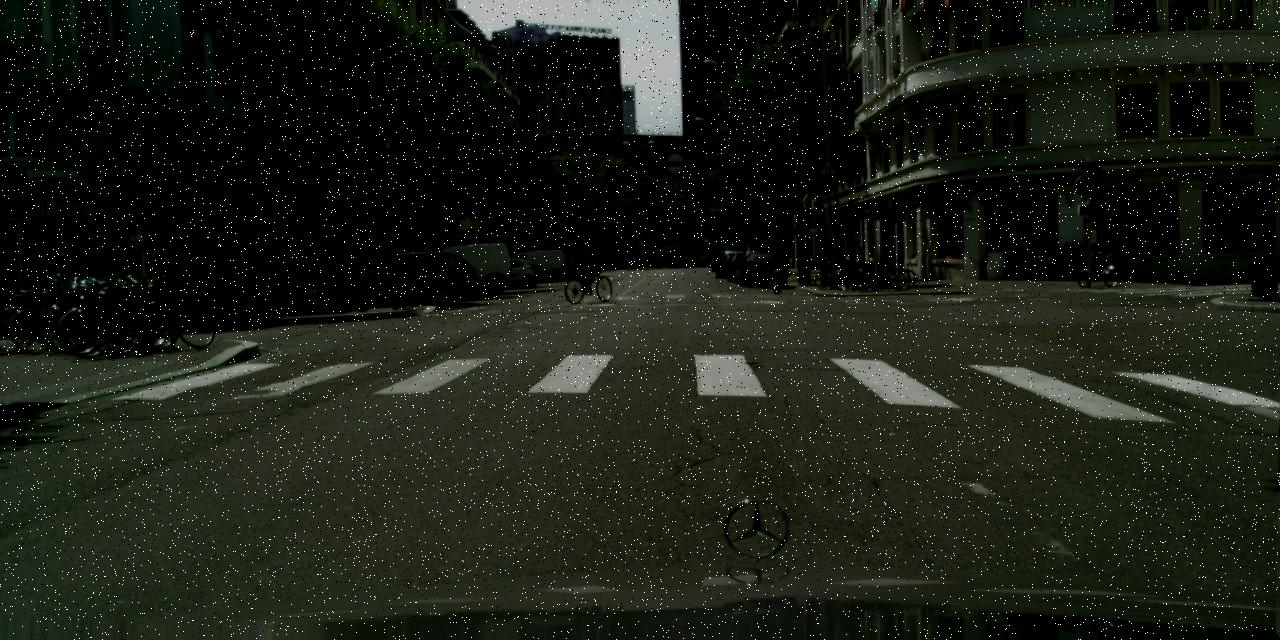ped: (572, 233, 597, 293), (848, 238, 862, 276), (667, 250, 673, 266)
